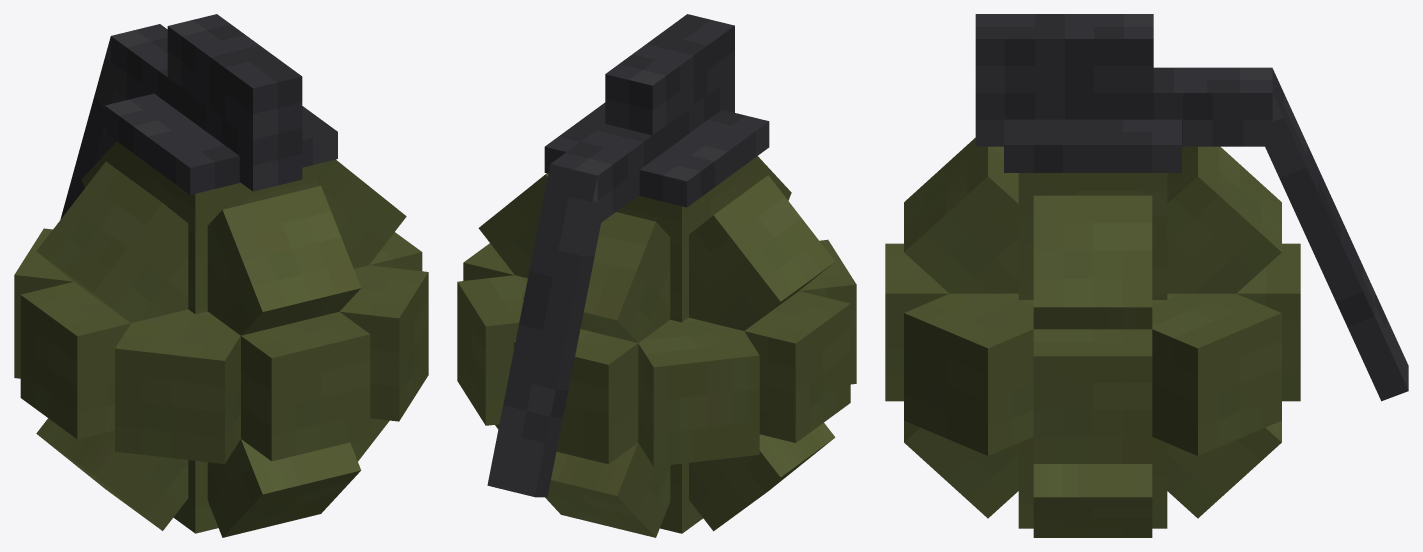
File: frag.gltf
3 views of the same model, side by side, from view 1: azimuth 30°, elevation 25°; view 2: azimuth 150°, elevation 25°; view 3: azimuth 270°, elevation 25° (orthographic). The views are drawn at different scales.
Visible parts, largest first — view 1: cube (×13); view 2: cube (×13); view 3: cube (×13).
Boxes of the visible parts, <box> form: cube (×13): <box>14,14,428,537</box>; cube (×13): <box>457,14,856,537</box>; cube (×13): <box>885,14,1408,537</box>.
Size of the model in its own units: 0.4375 by 0.5469 by 0.5513.
2 materials, 2 textured.
